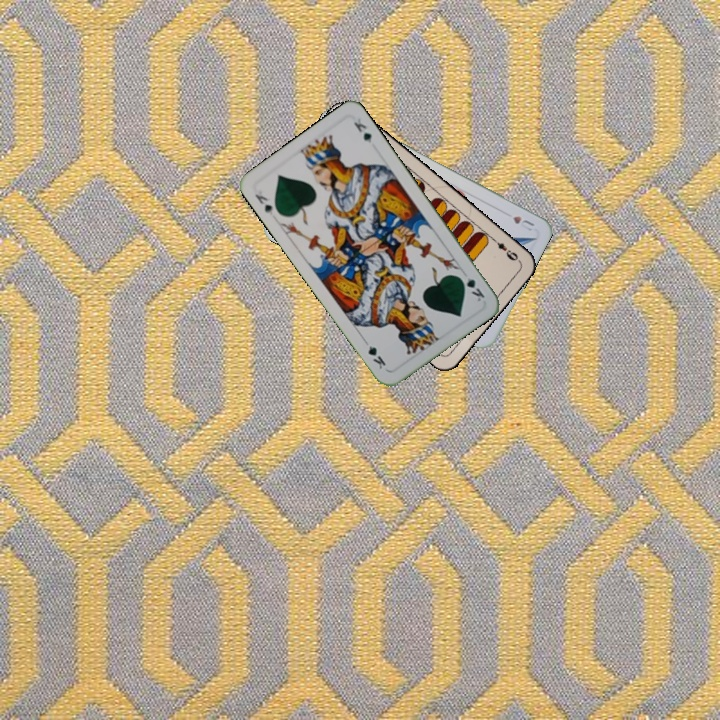E9: (488, 234, 522, 264)
GK: (455, 271, 487, 304), (251, 190, 276, 218)
HU: (509, 212, 537, 234)
